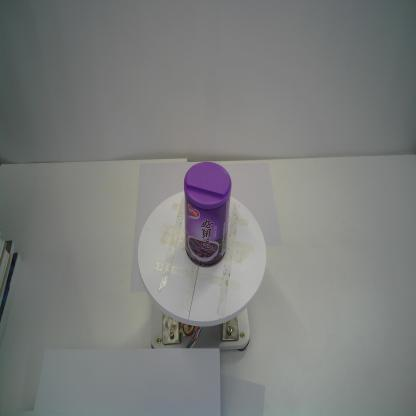Canned Food: (183, 160, 232, 268)
